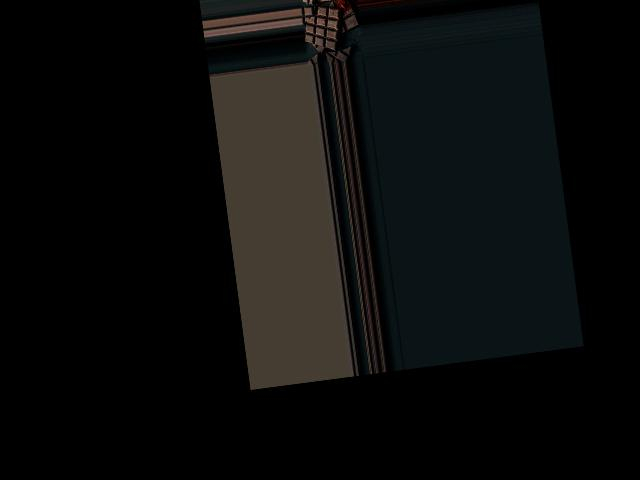chocolate: (300, 4, 346, 55)
